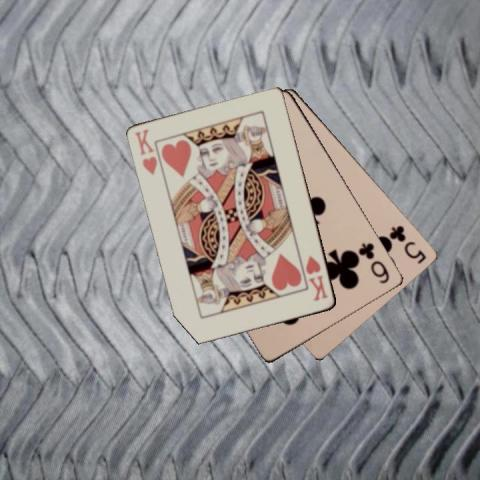5c: (387, 222, 429, 266)
6c: (356, 240, 391, 286)
Kh: (132, 126, 160, 176), (303, 252, 330, 302)
